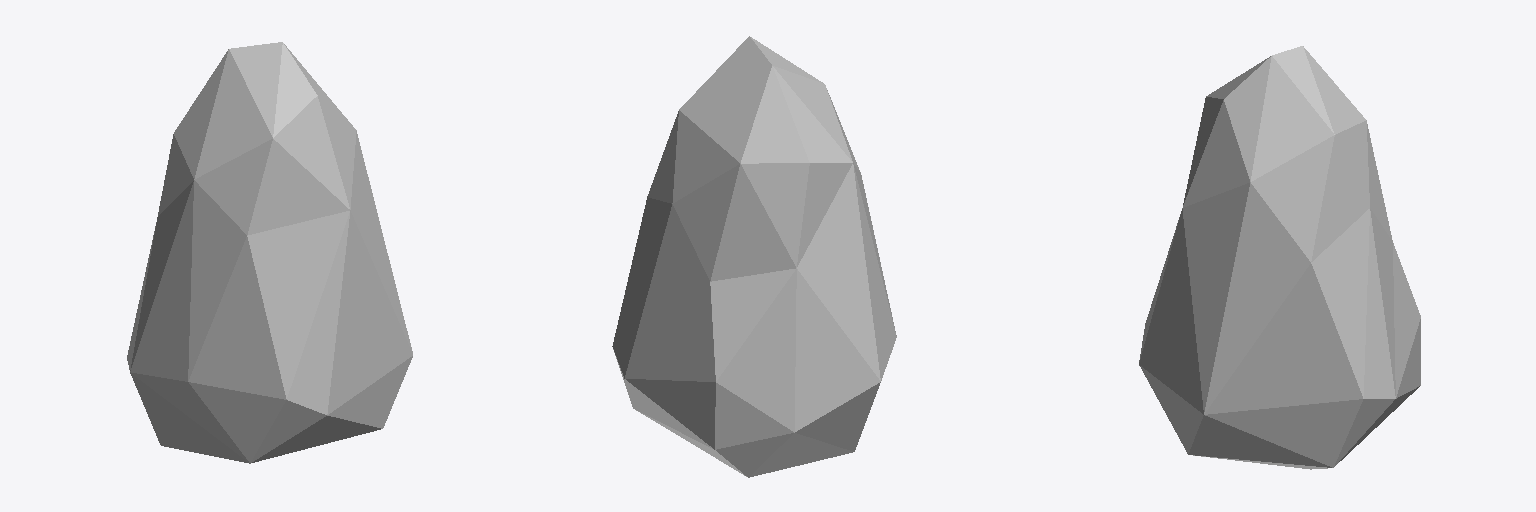
Rendered from rock.obj.
3 renders of one model, left to right at view 1: azimuth 30°, elevation 25°; view 2: azimuth 150°, elevation 25°; view 3: azimuth 270°, elevation 25°, orthographic.
Visible parts, largest first — view 1: Icosphere; view 2: Icosphere; view 3: Icosphere.
Boxes of the visible parts, box(x1,y1,x2,y2) form: Icosphere: box(127, 42, 412, 463); Icosphere: box(612, 36, 896, 477); Icosphere: box(1139, 46, 1420, 469).
Size of the model in its own units: 2.46 by 4.16 by 2.52.